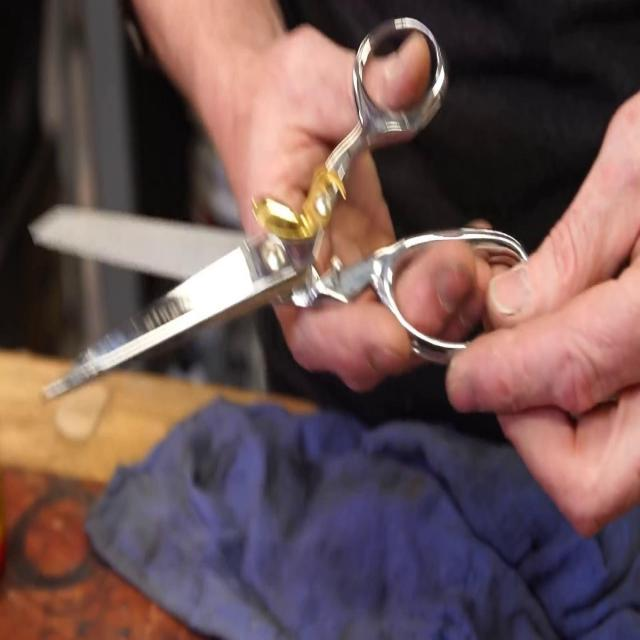scissor: (33, 9, 526, 400)
